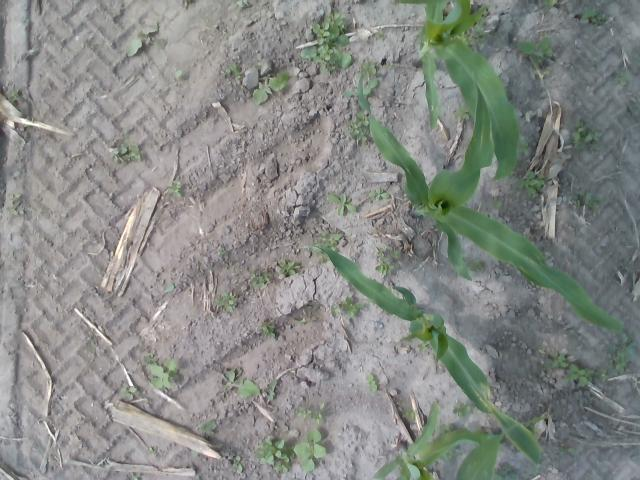Maize: (352, 69, 627, 336), (303, 241, 545, 470), (408, 0, 520, 181), (369, 402, 508, 480), (454, 417, 544, 480)
Weeds: (298, 13, 352, 77), (254, 437, 295, 475), (294, 429, 326, 472), (125, 22, 164, 56), (344, 63, 378, 100), (252, 71, 290, 104), (142, 355, 178, 388), (308, 231, 342, 263), (568, 122, 604, 152), (606, 334, 634, 372), (452, 16, 487, 46), (224, 369, 260, 397), (518, 35, 554, 63), (564, 362, 594, 388), (373, 246, 399, 274), (516, 171, 545, 196), (330, 296, 364, 317), (294, 402, 325, 425), (327, 192, 356, 216), (346, 112, 369, 141), (539, 348, 568, 369), (572, 190, 600, 210), (111, 144, 142, 162), (579, 8, 606, 26), (2, 192, 22, 216), (215, 292, 236, 314), (490, 464, 516, 480), (248, 269, 270, 287), (278, 258, 300, 276), (438, 446, 462, 462), (462, 255, 484, 272), (198, 417, 218, 435), (256, 320, 276, 338), (166, 180, 184, 198), (451, 402, 471, 418), (516, 134, 531, 155), (225, 63, 242, 80), (3, 88, 19, 106), (368, 188, 390, 201), (266, 380, 278, 400), (366, 373, 378, 393), (454, 106, 470, 120), (526, 422, 540, 438), (594, 368, 610, 382), (120, 386, 137, 398), (556, 444, 576, 454), (436, 423, 454, 434), (614, 72, 630, 84), (417, 338, 429, 352), (232, 456, 242, 472), (401, 408, 414, 420), (541, 0, 557, 9), (219, 245, 229, 258), (492, 198, 504, 208), (163, 283, 176, 292), (237, 0, 250, 8), (385, 59, 393, 69), (376, 27, 384, 37), (174, 70, 183, 78), (149, 448, 157, 456), (191, 450, 198, 456), (255, 62, 262, 68), (132, 476, 140, 480)
